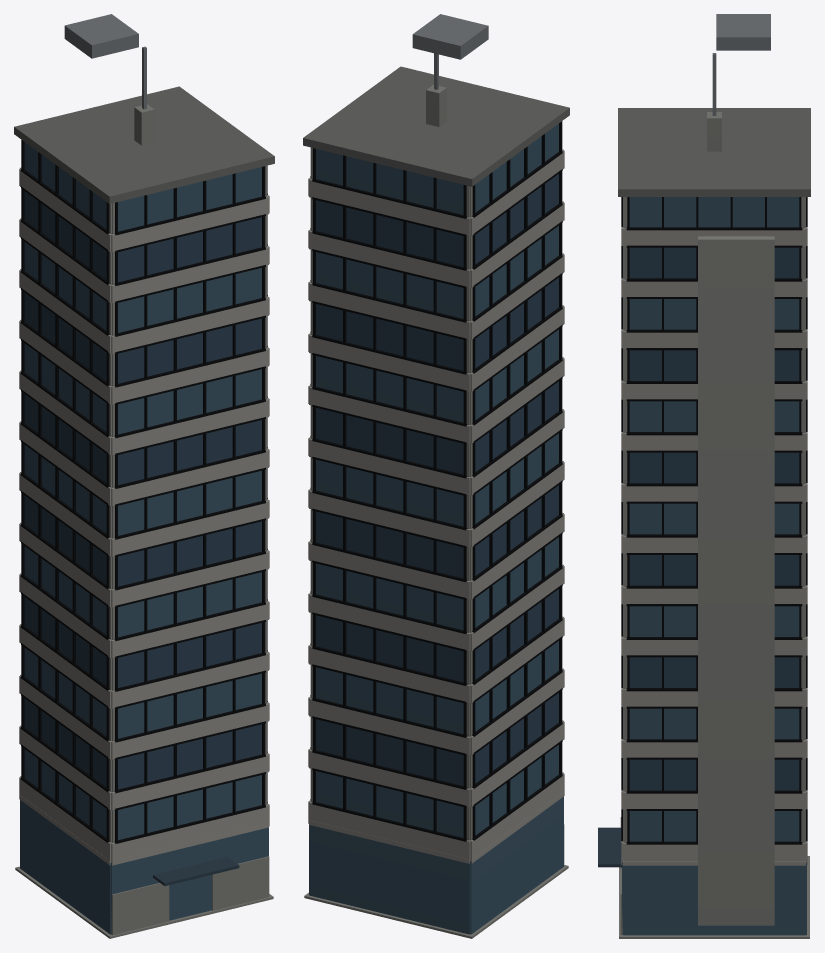
The model's file is town_city_spire.glb.
3 renders of one model, left to right at view 1: azimuth 30°, elevation 25°; view 2: azimuth 150°, elevation 25°; view 3: azimuth 270°, elevation 25°, orthographic. The views are drawn at different scales.
Visible parts, largest first — view 1: prop; view 2: prop; view 3: prop.
Boxes of the visible parts, x1,y1,x2,y2 form: prop: [14, 14, 274, 938]; prop: [303, 14, 569, 938]; prop: [598, 14, 810, 938].
Bounding box in the file's own units: 11.84 × 57.05 × 12.8.
